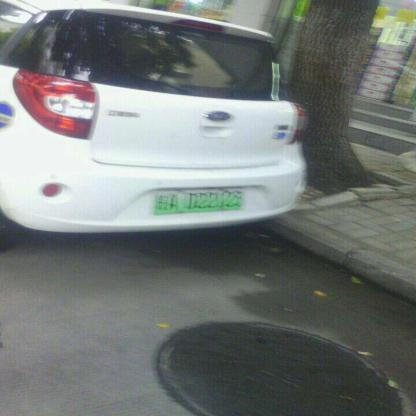lp: (154, 188, 242, 214)
